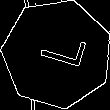L_W: (28, 32, 86, 76)
